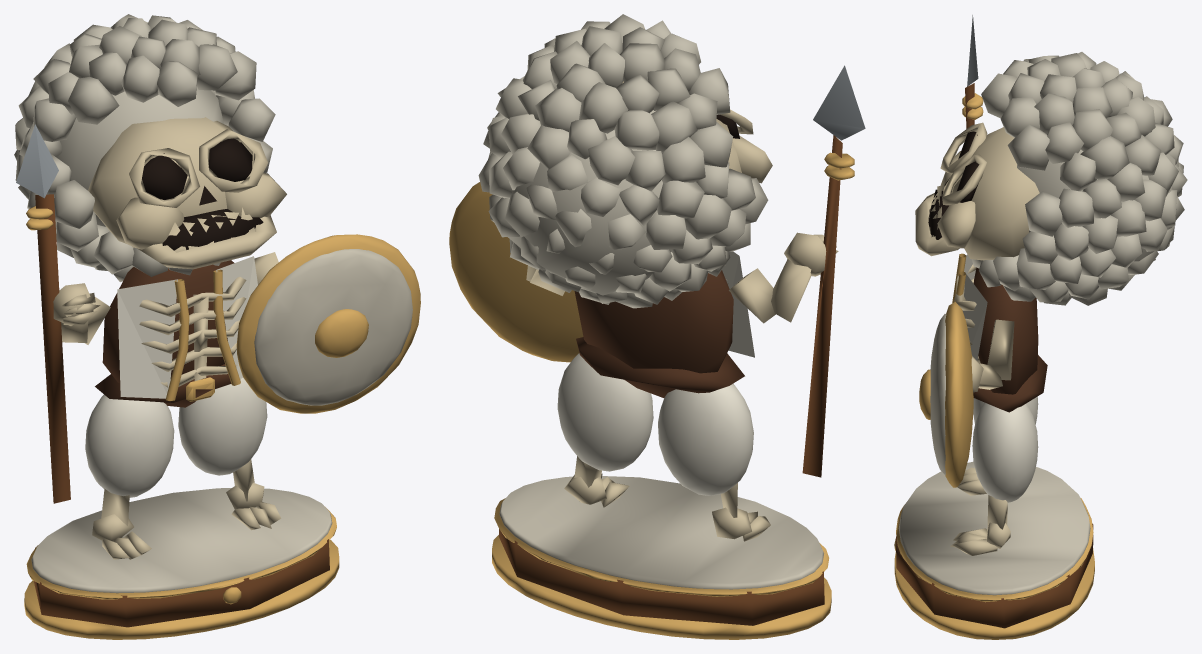
Rendered from pirate_knight_l1.glb.
3 views of the same model, side by side, from view 1: azimuth 30°, elevation 25°; view 2: azimuth 150°, elevation 25°; view 3: azimuth 270°, elevation 25° (orthographic). The views are drawn at different scales.
Visible parts, largest first — view 1: FixedDetails, WoodBody, BrassTrim; view 2: FixedDetails, WoodBody, BrassTrim; view 3: FixedDetails, WoodBody, BrassTrim.
Boxes of the visible parts, bbox=[...] form: FixedDetails: bbox=[14, 14, 329, 627]; WoodBody: bbox=[31, 249, 412, 593]; BrassTrim: bbox=[24, 206, 420, 639]; FixedDetails: bbox=[478, 14, 865, 625]; WoodBody: bbox=[499, 251, 823, 589]; BrassTrim: bbox=[449, 152, 854, 639]; FixedDetails: bbox=[896, 15, 1187, 628]; WoodBody: bbox=[898, 254, 1090, 595]; BrassTrim: bbox=[894, 93, 1094, 639].
Size of the model in its own units: 0.4315 by 0.5563 by 0.2921.
